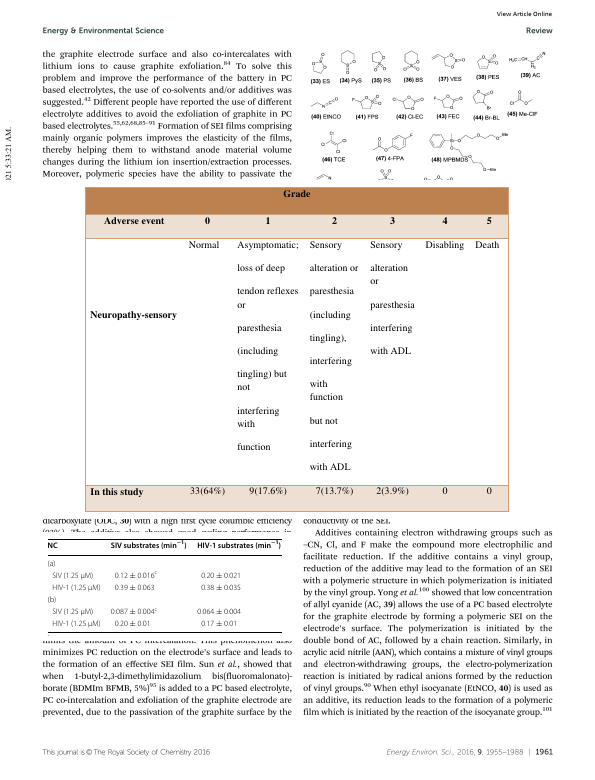bordered: (84, 186, 508, 511)
borderless: (46, 537, 282, 632)
cell: (236, 238, 300, 453), (309, 238, 359, 473), (369, 238, 416, 357), (89, 307, 178, 321), (103, 213, 165, 227), (196, 540, 282, 550), (110, 540, 188, 550), (89, 484, 145, 497), (110, 606, 158, 617), (425, 238, 465, 251), (248, 484, 288, 497), (51, 583, 102, 593), (315, 484, 354, 497), (114, 570, 158, 581), (189, 484, 226, 497), (51, 620, 102, 629), (375, 484, 410, 497), (51, 571, 94, 581), (200, 571, 242, 581), (114, 583, 156, 593), (200, 583, 242, 593), (188, 238, 220, 251), (196, 608, 242, 617), (282, 186, 311, 200), (51, 608, 94, 617), (114, 620, 152, 629), (200, 620, 238, 629), (474, 238, 500, 251), (47, 541, 59, 550), (204, 213, 211, 227), (265, 213, 272, 227), (331, 213, 338, 227), (389, 213, 396, 227), (441, 213, 448, 227), (486, 213, 493, 227), (441, 484, 448, 497), (486, 484, 493, 497), (47, 559, 56, 569), (47, 596, 57, 605)
